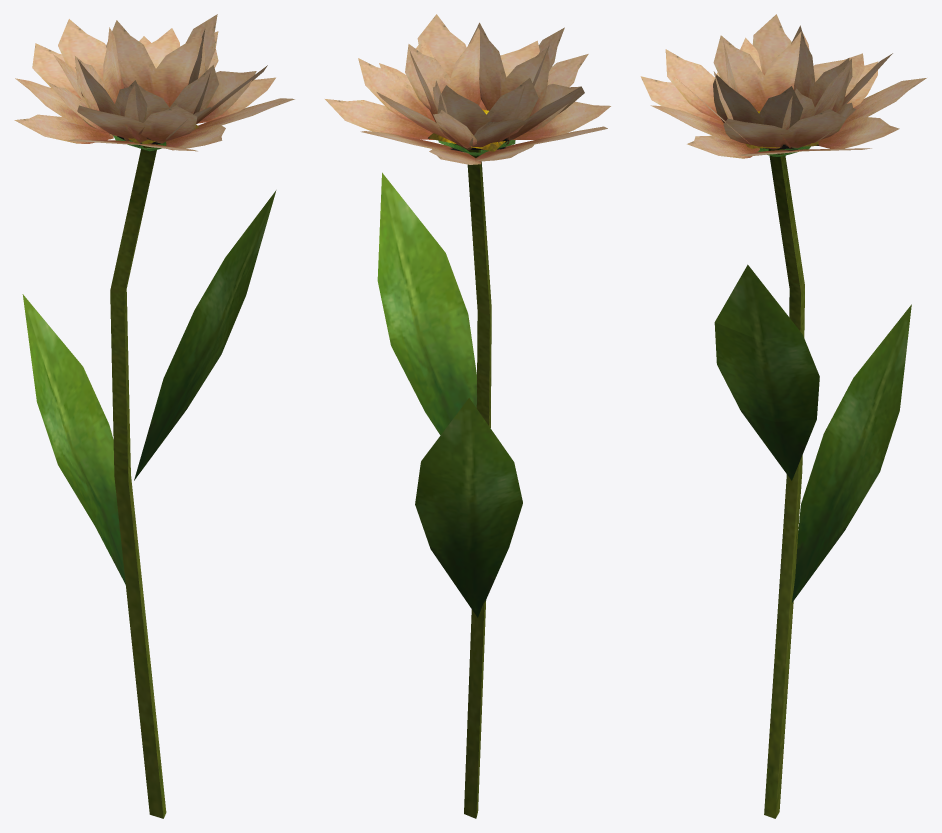
Rendered from lotusflower_07.fbx.
3 renders of one model, left to right at view 1: azimuth 30°, elevation 25°; view 2: azimuth 150°, elevation 25°; view 3: azimuth 270°, elevation 25°, orthographic.
Parts seen in each view (by area): view 1: lotusflower_07; view 2: lotusflower_07; view 3: lotusflower_07.
Part boxes in pixels (x1,y1,x2,y2): lotusflower_07: (14,14,294,818); lotusflower_07: (325,14,610,818); lotusflower_07: (640,14,926,818).
Bounding box in the file's own units: 0.4509 × 1.34 × 0.4621.
